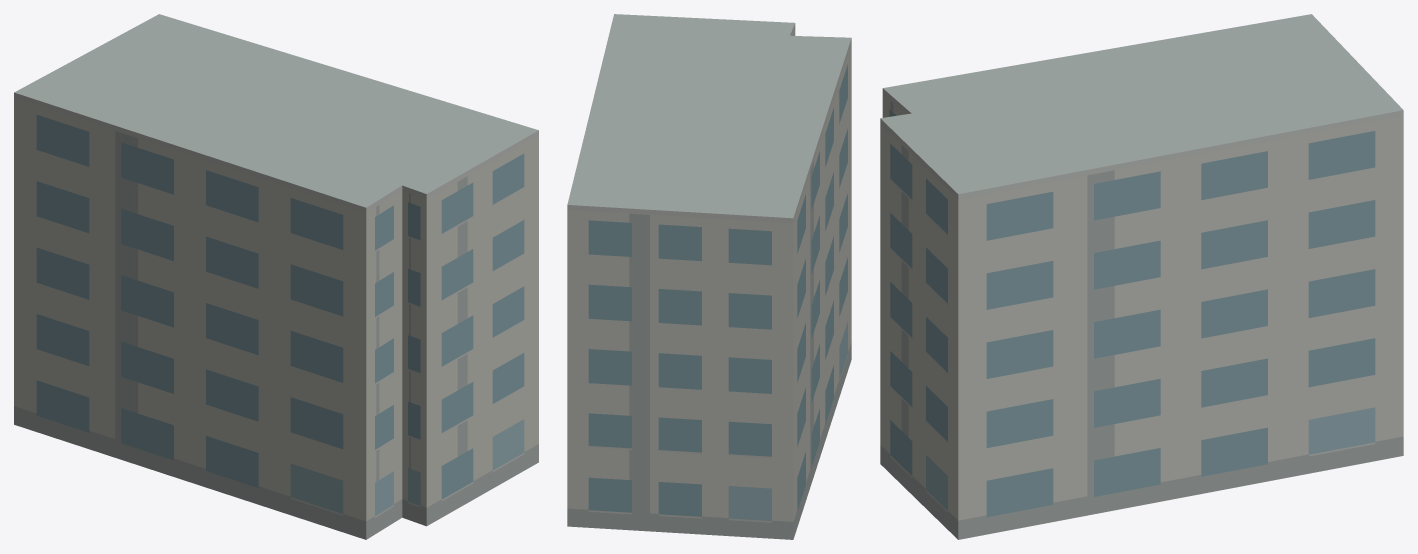
Rendered from survey-upis-32683290.glb.
The picture shows the model from 3 angles, left to right: view 1: azimuth 30°, elevation 25°; view 2: azimuth 150°, elevation 25°; view 3: azimuth 270°, elevation 25°; orthographic projection. The views are drawn at different scales.
Parts seen in each view (by area): view 1: survey-upis-32683290.tmp; view 2: survey-upis-32683290.tmp; view 3: survey-upis-32683290.tmp.
Part boxes in pixels (left/top/right/bottom): survey-upis-32683290.tmp: left=14, top=14, right=538, bottom=539; survey-upis-32683290.tmp: left=567, top=14, right=851, bottom=539; survey-upis-32683290.tmp: left=880, top=14, right=1403, bottom=539.
Bounding box in the file's own units: 17.06 × 15.25 × 20.94.
